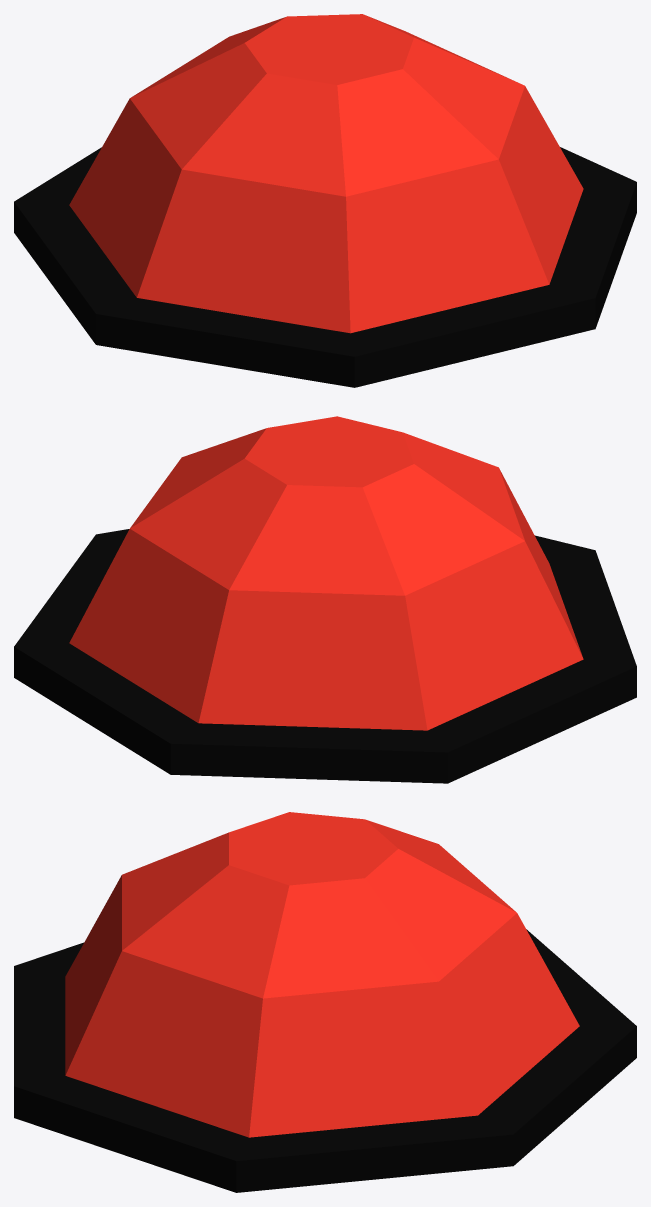
File: Alarm.fbx
3 renders of one model, top to bottom at view 1: azimuth 30°, elevation 25°; view 2: azimuth 150°, elevation 25°; view 3: azimuth 270°, elevation 25°, orthographic. The views are drawn at different scales.
Visible parts, largest first — view 1: Cylinder; view 2: Cylinder; view 3: Cylinder.
Part boxes in pixels (left/top/right/bottom): Cylinder: left=14, top=14, right=636, bottom=387; Cylinder: left=14, top=416, right=636, bottom=783; Cylinder: left=14, top=812, right=636, bottom=1192.
Size of the model in its own units: 365 by 132 by 355.
